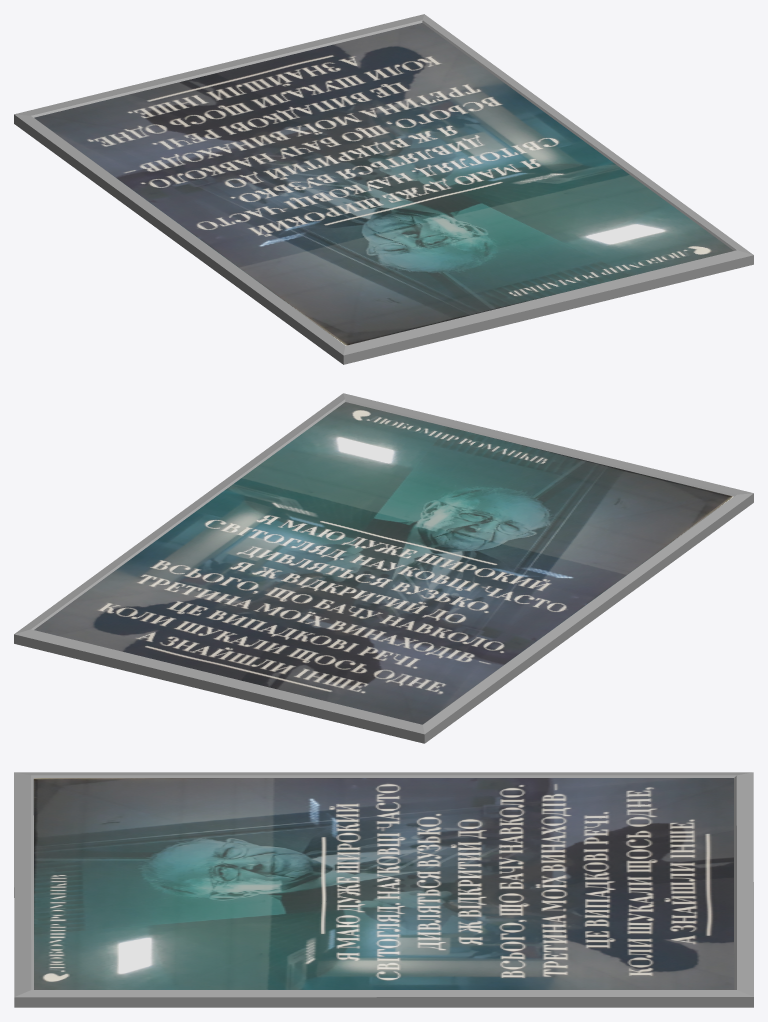
The model's file is p3_lubomyr_romankiw.dae.
The picture shows the model from 3 angles, top to bottom: view 1: azimuth 30°, elevation 25°; view 2: azimuth 150°, elevation 25°; view 3: azimuth 270°, elevation 25°; orthographic projection. The views are drawn at different scales.
Parts seen in each view (by area): view 1: Circle_001, Circle; view 2: Circle_001, Circle; view 3: Circle_001, Circle.
Boxes of the visible parts, box(x1,y1,x2,y2) form: Circle_001: box(34, 23, 733, 345); Circle: box(14, 14, 753, 364); Circle_001: box(34, 402, 733, 724); Circle: box(14, 393, 753, 743); Circle_001: box(33, 778, 734, 989); Circle: box(14, 772, 753, 1007).
Size of the model in its own units: 0.4402 by 0.6119 by 0.0114.
2 materials, 1 textured.
